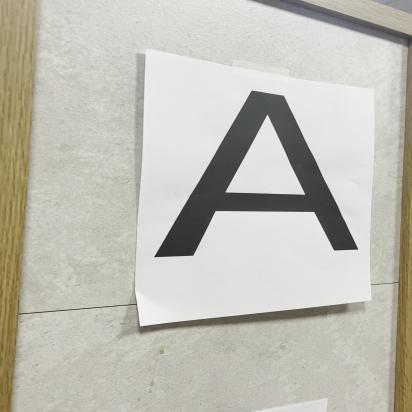seat: (142, 87, 361, 273)
